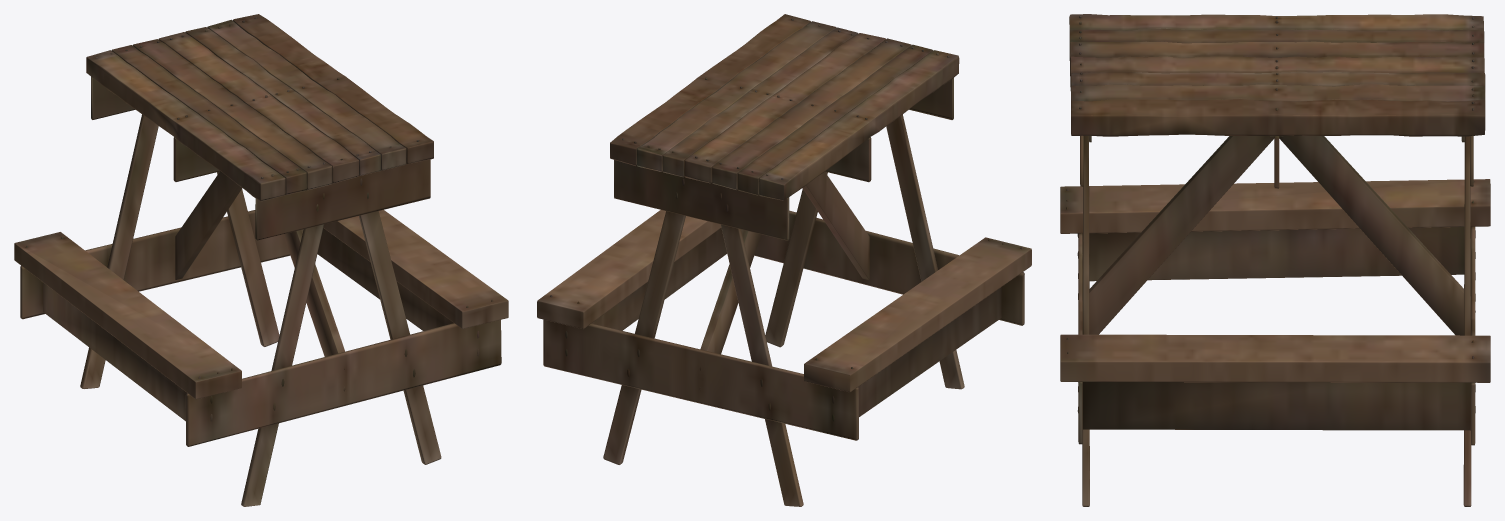
Rendered from ph-wooden-picnic-table.glb.
3 renders of one model, left to right at view 1: azimuth 30°, elevation 25°; view 2: azimuth 150°, elevation 25°; view 3: azimuth 270°, elevation 25°, orthographic. The views are drawn at different scales.
Visible parts, largest first — view 1: wooden_picnic_table; view 2: wooden_picnic_table; view 3: wooden_picnic_table.
Boxes of the visible parts, x1,y1,x2,y2 form: wooden_picnic_table: (14, 14, 508, 506); wooden_picnic_table: (537, 14, 1031, 506); wooden_picnic_table: (1060, 14, 1490, 506).
Bounding box in the file's own units: 1 × 1 × 1.
Materials: 2 (2 with a texture image).
